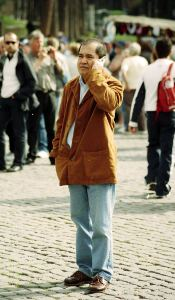phone: (96, 57, 106, 73)
talk: (77, 51, 114, 81)
